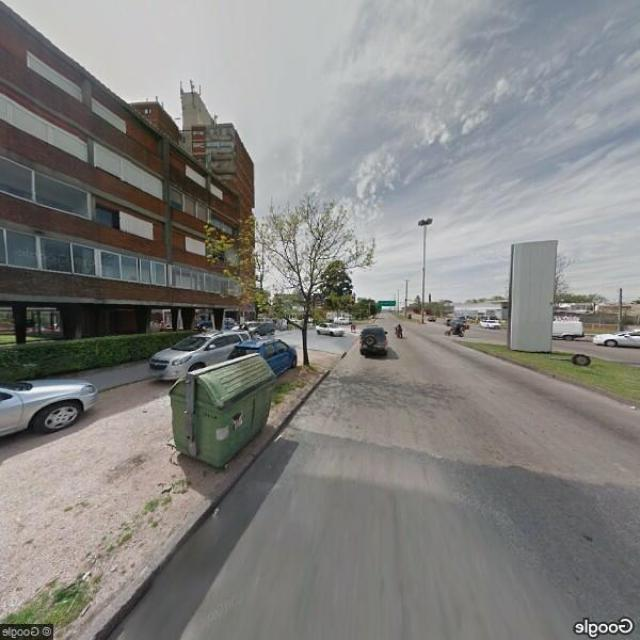garbage container: (162, 349, 289, 479)
